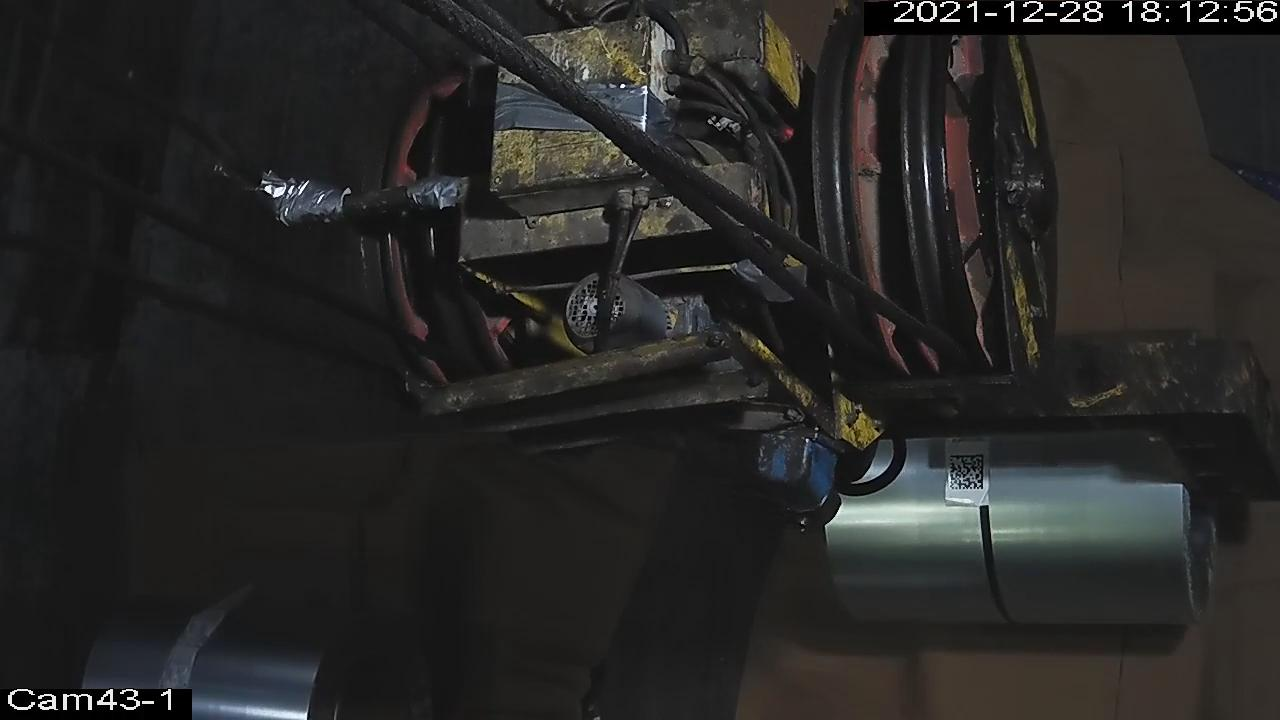data matrix: (948, 454, 988, 493)
